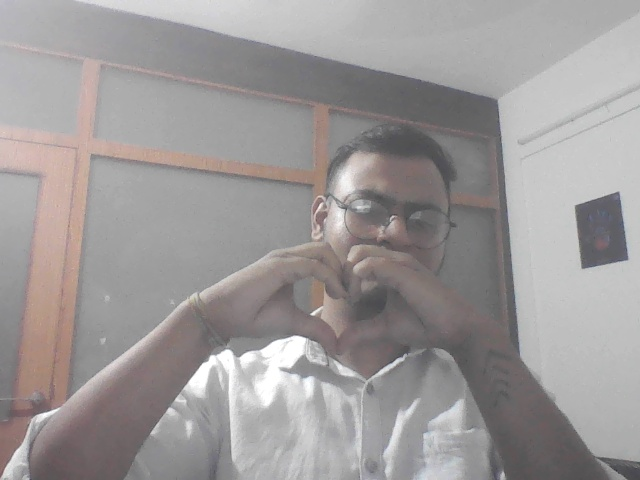Heart: (229, 237, 449, 360)
